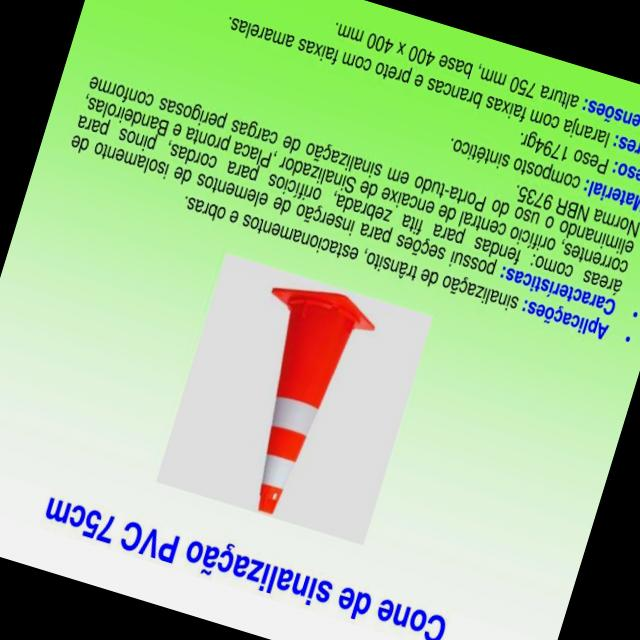cone: (198, 271, 390, 534)
